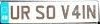character: (20, 5, 30, 20), (60, 4, 70, 19), (86, 4, 96, 19), (10, 5, 20, 19), (35, 5, 45, 19), (71, 4, 81, 18), (46, 5, 55, 19), (82, 3, 86, 19)
